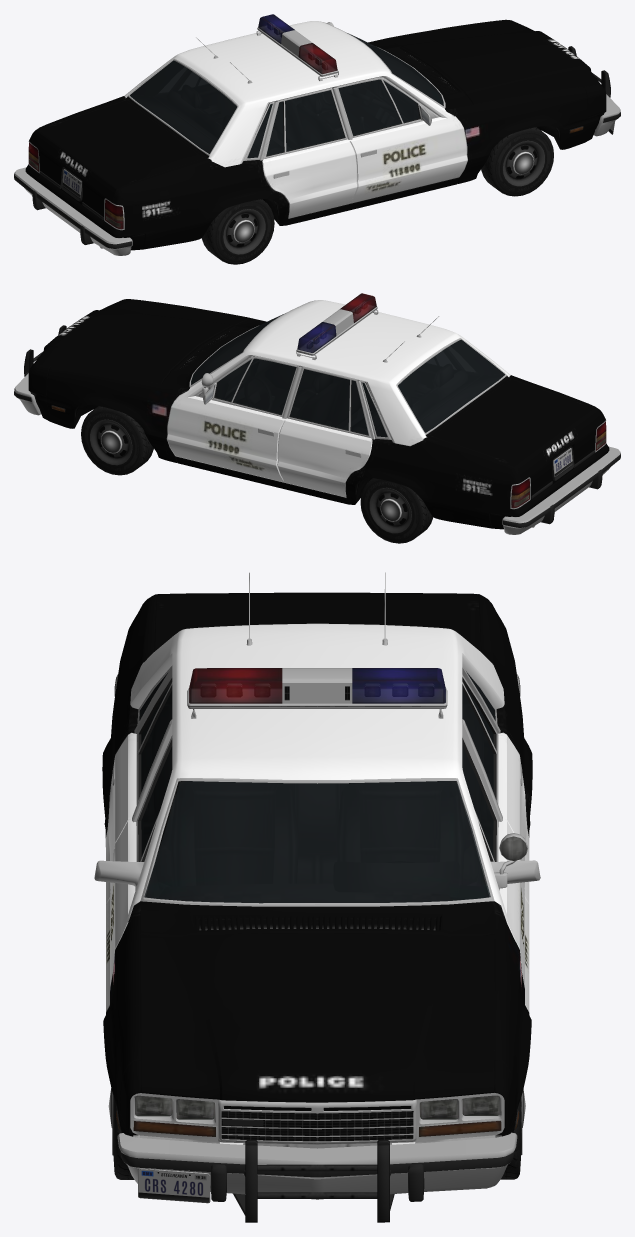
Rendered from fh_cop.glb.
3 renders of one model, top to bottom at view 1: azimuth 30°, elevation 25°; view 2: azimuth 150°, elevation 25°; view 3: azimuth 270°, elevation 25°, orthographic. The views are drawn at different scales.
Visible parts, largest first — view 1: Fairheaven_LT80_body001_Fairheaven_LT80_Bodymat_0, Fairheaven_LT80_trunk_door001_Fairheaven_LT80_Bodymat_0, Fairheaven_LT80_Hood001_Fairheaven_LT80_Bodymat_0, Fairheaven_LT80_Interior_Trim001_UCB_Interior_Trim_0, Fairheaven_LT80_Glass_Rear001_UCB_Lights_and_Glass_Transpere, Fairheaven_LT80_Interior001_UCB_Interior_Trim_0, Fairheaven_LT80_Glass_Body001_UCB_Lights_and_Glass_Transpere, Fairheaven_LT80_Trim_UCB_BOTTOM_GT_0, Fairheaven_LT80_WheelStamp_FR_RB1c_Tire_1k_0, Fairheaven_LT80_WheelStamp_RR_RB1c_Tire_1k_0, Fairheaven_LT80_Glass_Passanger002_UCB_Lights_and_Glass_Tran, Fairheaven_LT80_bumper_rear001_UCB_BOTTOM_GT_0 (+9 smaller); view 2: Fairheaven_LT80_body001_Fairheaven_LT80_Bodymat_0, Fairheaven_LT80_trunk_door001_Fairheaven_LT80_Bodymat_0, Fairheaven_LT80_Hood001_Fairheaven_LT80_Bodymat_0, Fairheaven_LT80_Interior_Trim001_UCB_Interior_Trim_0, Fairheaven_LT80_Interior001_UCB_Interior_Trim_0, Fairheaven_LT80_Glass_Rear001_UCB_Lights_and_Glass_Transpere, Fairheaven_LT80_Glass_Body001_UCB_Lights_and_Glass_Transpere, Fairheaven_LT80_Trim_UCB_BOTTOM_GT_0, Fairheaven_LT80_WheelStamp_FL_RB1c_Tire_1k_0, Fairheaven_LT80_WheelStamp_RL_RB1c_Tire_1k_0, Fairheaven_LT80_Glass_Driver002_UCB_Lights_and_Glass_Transpe, Fairheaven_LT80_bumper_rear001_UCB_BOTTOM_GT_0 (+9 smaller); view 3: Fairheaven_LT80_body001_Fairheaven_LT80_Bodymat_0, Fairheaven_LT80_Hood001_Fairheaven_LT80_Bodymat_0, Fairheaven_LT80_Interior_Trim001_UCB_Interior_Trim_0, Fairheaven_LT80_Windshield001_UCB_Lights_and_Glass_Transpere, Fairheaven_LT80_Bumper_Front001_UCB_BOTTOM_GT_0, Fairheaven_LT80_Front_Plate_Inner001_UCB_BOTTOM_GT_0, Fairheaven_LT80_trunk_door001_Fairheaven_LT80_Bodymat_0, Fairheaven_LT80_Trim_UCB_BOTTOM_GT_0, Fairheaven_LT80_Lightbar_UCB_BOTTOM_GT_0, Fairheaven_LT80_Lightbar_Glass_UCB_Lights_and_Glass_Transper, Fairheaven_LT80_Headlights_Glass001_UCB_Lights_and_Glass_Tra, Fairheaven_LT80_Bullbar_UCB_BOTTOM_GT_0 (+8 smaller).
Boxes of the visible parts, left/top/right/bottom form: Fairheaven_LT80_body001_Fairheaven_LT80_Bodymat_0: left=25, top=21, right=588, bottom=250; Fairheaven_LT80_trunk_door001_Fairheaven_LT80_Bodymat_0: left=32, top=98, right=207, bottom=220; Fairheaven_LT80_Hood001_Fairheaven_LT80_Bodymat_0: left=385, top=20, right=602, bottom=104; Fairheaven_LT80_Interior_Trim001_UCB_Interior_Trim_0: left=167, top=49, right=443, bottom=157; Fairheaven_LT80_Glass_Rear001_UCB_Lights_and_Glass_Transpere: left=130, top=60, right=236, bottom=153; Fairheaven_LT80_Interior001_UCB_Interior_Trim_0: left=130, top=45, right=442, bottom=153; Fairheaven_LT80_Glass_Body001_UCB_Lights_and_Glass_Transpere: left=160, top=68, right=344, bottom=158; Fairheaven_LT80_Trim_UCB_BOTTOM_GT_0: left=28, top=22, right=445, bottom=230; Fairheaven_LT80_WheelStamp_FR_RB1c_Tire_1k_0: left=481, top=127, right=553, bottom=196; Fairheaven_LT80_WheelStamp_RR_RB1c_Tire_1k_0: left=201, top=199, right=274, bottom=264; Fairheaven_LT80_Glass_Passanger002_UCB_Lights_and_Glass_Tran: left=338, top=79, right=419, bottom=135; Fairheaven_LT80_bumper_rear001_UCB_BOTTOM_GT_0: left=14, top=167, right=132, bottom=255; Fairheaven_LT80_body001_Fairheaven_LT80_Bodymat_0: left=46, top=300, right=609, bottom=529; Fairheaven_LT80_trunk_door001_Fairheaven_LT80_Bodymat_0: left=427, top=377, right=602, bottom=499; Fairheaven_LT80_Hood001_Fairheaven_LT80_Bodymat_0: left=32, top=299, right=249, bottom=383; Fairheaven_LT80_Interior_Trim001_UCB_Interior_Trim_0: left=192, top=331, right=467, bottom=436; Fairheaven_LT80_Interior001_UCB_Interior_Trim_0: left=193, top=324, right=504, bottom=432; Fairheaven_LT80_Glass_Rear001_UCB_Lights_and_Glass_Transpere: left=398, top=339, right=504, bottom=432; Fairheaven_LT80_Glass_Body001_UCB_Lights_and_Glass_Transpere: left=290, top=347, right=474, bottom=437; Fairheaven_LT80_Trim_UCB_BOTTOM_GT_0: left=189, top=301, right=606, bottom=509; Fairheaven_LT80_WheelStamp_FL_RB1c_Tire_1k_0: left=81, top=406, right=153, bottom=475; Fairheaven_LT80_WheelStamp_RL_RB1c_Tire_1k_0: left=360, top=478, right=433, bottom=543; Fairheaven_LT80_Glass_Driver002_UCB_Lights_and_Glass_Transpe: left=215, top=358, right=296, bottom=414; Fairheaven_LT80_bumper_rear001_UCB_BOTTOM_GT_0: left=502, top=446, right=620, bottom=534; Fairheaven_LT80_body001_Fairheaven_LT80_Bodymat_0: left=102, top=594, right=532, bottom=1124; Fairheaven_LT80_Hood001_Fairheaven_LT80_Bodymat_0: left=140, top=933, right=494, bottom=1102; Fairheaven_LT80_Interior_Trim001_UCB_Interior_Trim_0: left=144, top=705, right=490, bottom=903; Fairheaven_LT80_Windshield001_UCB_Lights_and_Glass_Transpere: left=144, top=781, right=490, bottom=903; Fairheaven_LT80_Bumper_Front001_UCB_BOTTOM_GT_0: left=117, top=1132, right=517, bottom=1201; Fairheaven_LT80_Front_Plate_Inner001_UCB_BOTTOM_GT_0: left=130, top=1093, right=504, bottom=1144; Fairheaven_LT80_trunk_door001_Fairheaven_LT80_Bodymat_0: left=154, top=592, right=480, bottom=651; Fairheaven_LT80_Trim_UCB_BOTTOM_GT_0: left=94, top=665, right=540, bottom=906; Fairheaven_LT80_Lightbar_UCB_BOTTOM_GT_0: left=187, top=668, right=447, bottom=718; Fairheaven_LT80_Lightbar_Glass_UCB_Lights_and_Glass_Transper: left=189, top=668, right=445, bottom=703; Fairheaven_LT80_Headlights_Glass001_UCB_Lights_and_Glass_Tra: left=133, top=1095, right=501, bottom=1136; Fairheaven_LT80_Bullbar_UCB_BOTTOM_GT_0: left=233, top=1139, right=394, bottom=1222.
Bounding box in the file's own units: 5.07 × 1.57 × 1.83.
Materials: 7 (7 with a texture image).
